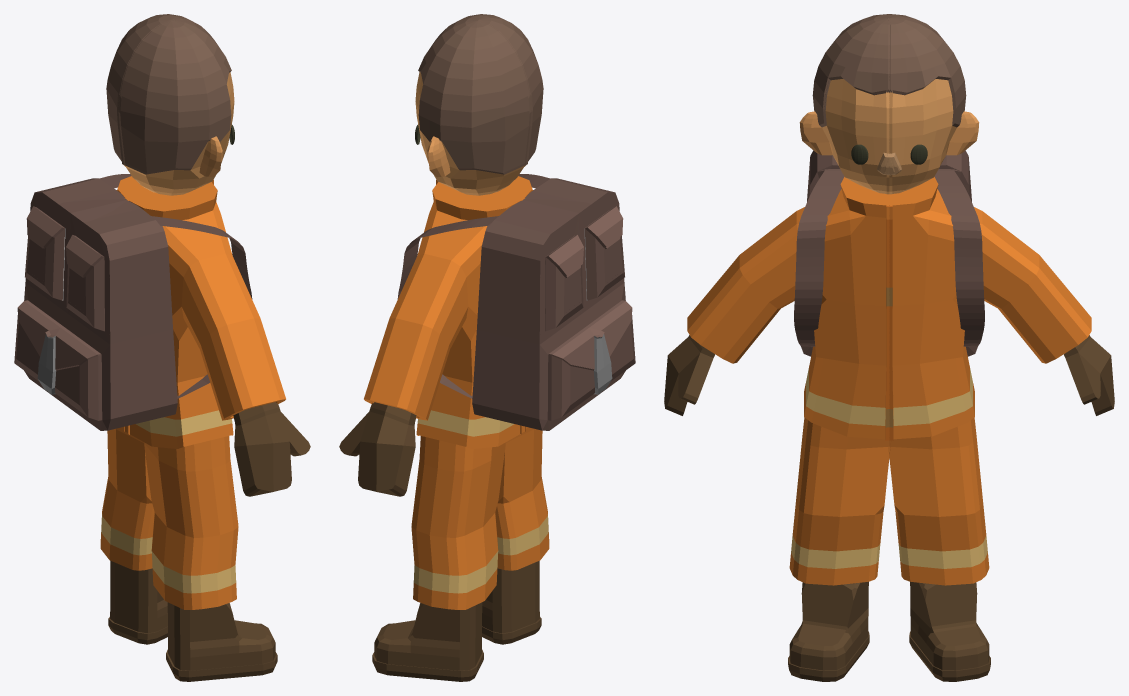
Rendered from modeloPersonagem.fbx.
The picture shows the model from 3 angles, left to right: view 1: azimuth 30°, elevation 25°; view 2: azimuth 150°, elevation 25°; view 3: azimuth 270°, elevation 25°; orthographic projection.
Parts seen in each view (by area): view 1: PES.004; view 2: PES.004; view 3: PES.004.
Boxes of the visible parts, x1,y1,x2,y2 form: PES.004: (14,14,310,681); PES.004: (339,14,635,681); PES.004: (664,14,1114,681).
Bounding box in the file's own units: 44.31 × 137 × 88.5.
